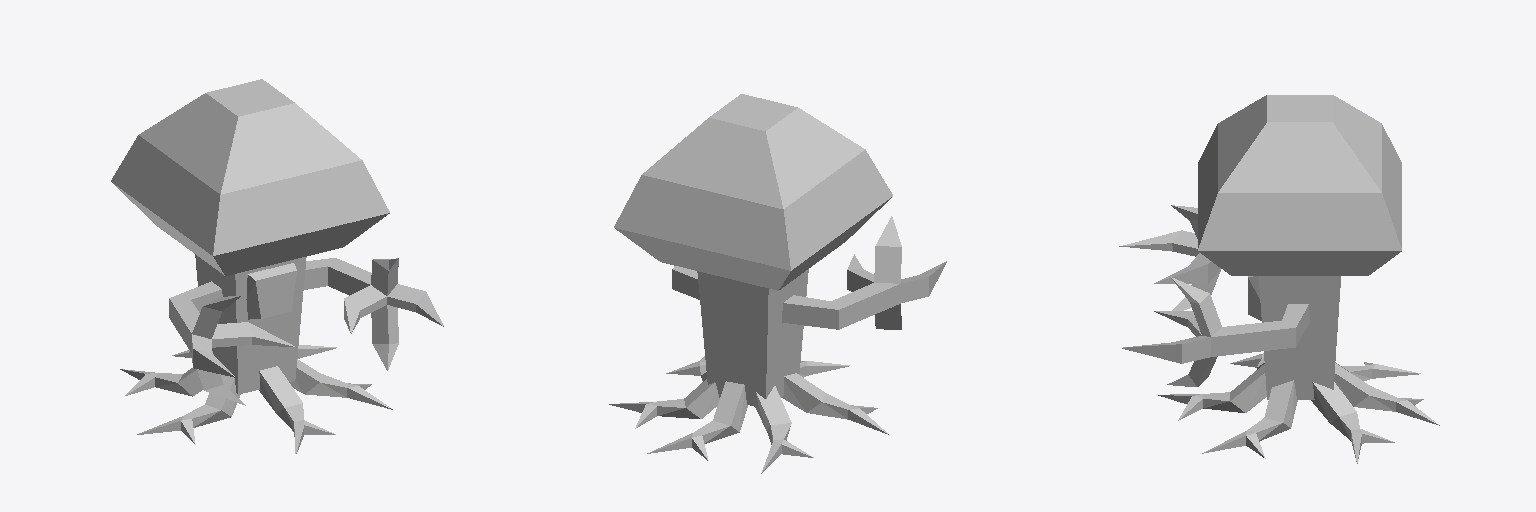
Rendered from ent.obj.
The picture shows the model from 3 angles: view 1: azimuth 30°, elevation 25°; view 2: azimuth 150°, elevation 25°; view 3: azimuth 270°, elevation 25°; orthographic projection.
Parts seen in each view (by area): view 1: Body, LeftArm, RightArm, Head, FrontMiddleLeg, FrontRightLeg, FrontLeftLeg, BackRightLeg; view 2: Body, RightArm, BackMiddleLeg, FrontRightLeg, BackLeftLeg, BackRightLeg, LeftArm; view 3: Body, LeftArm, RightArm, FrontLeftLeg, FrontMiddleLeg, BackLeftLeg, BackMiddleLeg, BackRightLeg.
Part boxes in pixels (x1,y1,x2,y2): Body: (111,79,389,394); LeftArm: (304,258,443,370); RightArm: (169,281,296,405); Head: (246,263,296,319); FrontMiddleLeg: (259,366,335,453); FrontRightLeg: (137,374,240,444); FrontLeftLeg: (289,359,392,409); BackRightLeg: (120,368,203,396); Body: (614,94,892,407); RightArm: (782,216,946,329); BackMiddleLeg: (647,381,747,460); FrontRightLeg: (782,373,888,434); BackLeftLeg: (609,379,719,428); BackRightLeg: (755,386,813,473); LeftArm: (672,266,699,299); Body: (1198,95,1401,399); LeftArm: (1122,277,1309,386); RightArm: (1119,205,1220,310); FrontLeftLeg: (1202,380,1297,458); FrontMiddleLeg: (1158,364,1266,420); BackLeftLeg: (1311,382,1394,463); BackMiddleLeg: (1334,363,1439,425); BackRightLeg: (1335,362,1420,380).
Bounding box in the file's own units: 2.57 × 3.02 × 2.94.